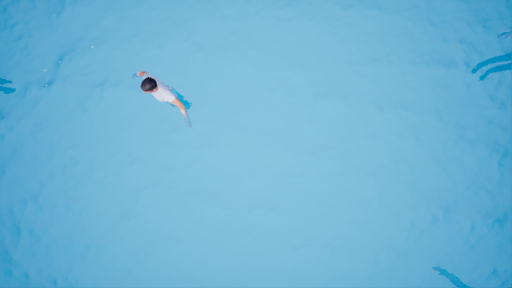person: (132, 70, 195, 130)
